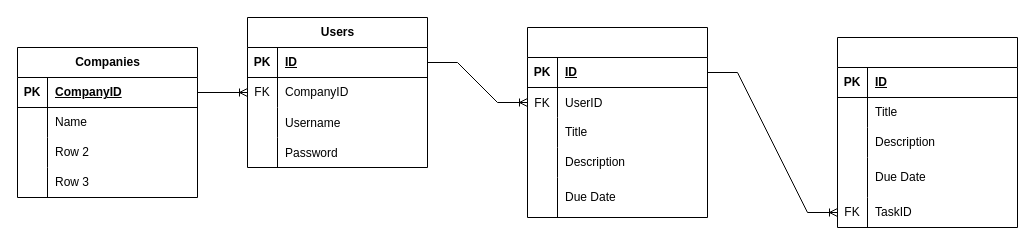
The diagram is 1035 pixels wide and 245 high, and some of its shapes have lost their labels. The box of each missing label's shape, as (x1, y1, x2, y2) in pixels:
SubTasks: (836, 36, 1018, 228)
Tasks: (526, 26, 708, 218)
